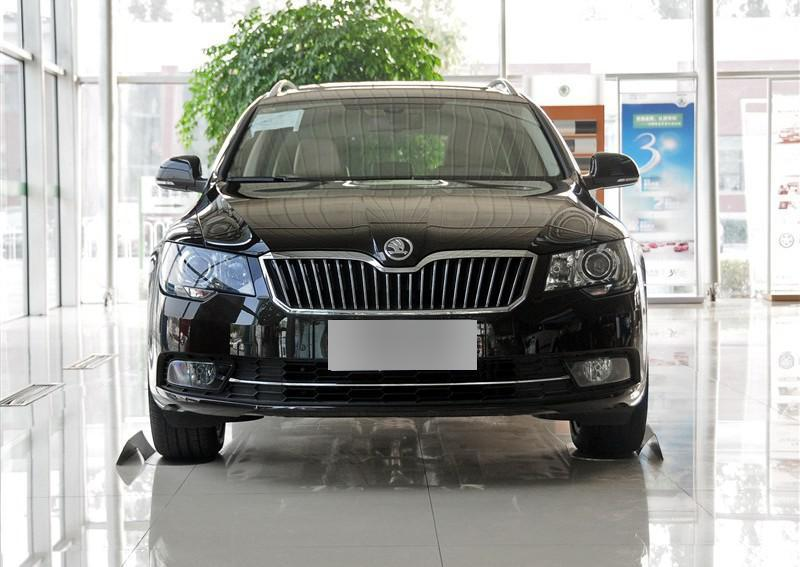Wagon: (146, 80, 649, 462)
